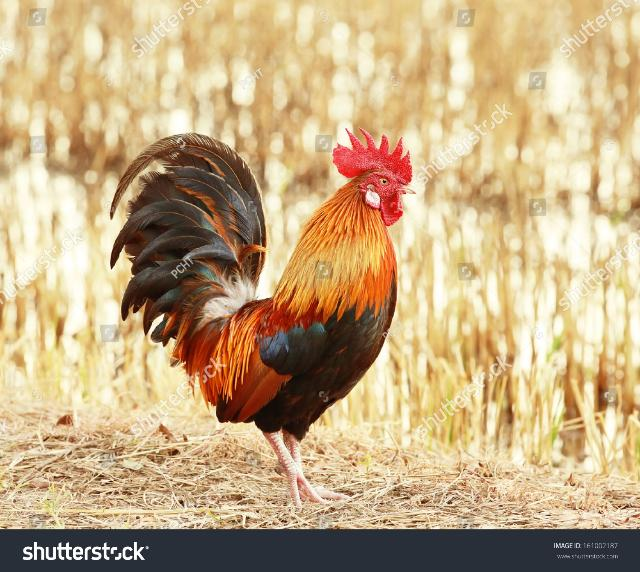Chicken: (113, 125, 418, 509)
